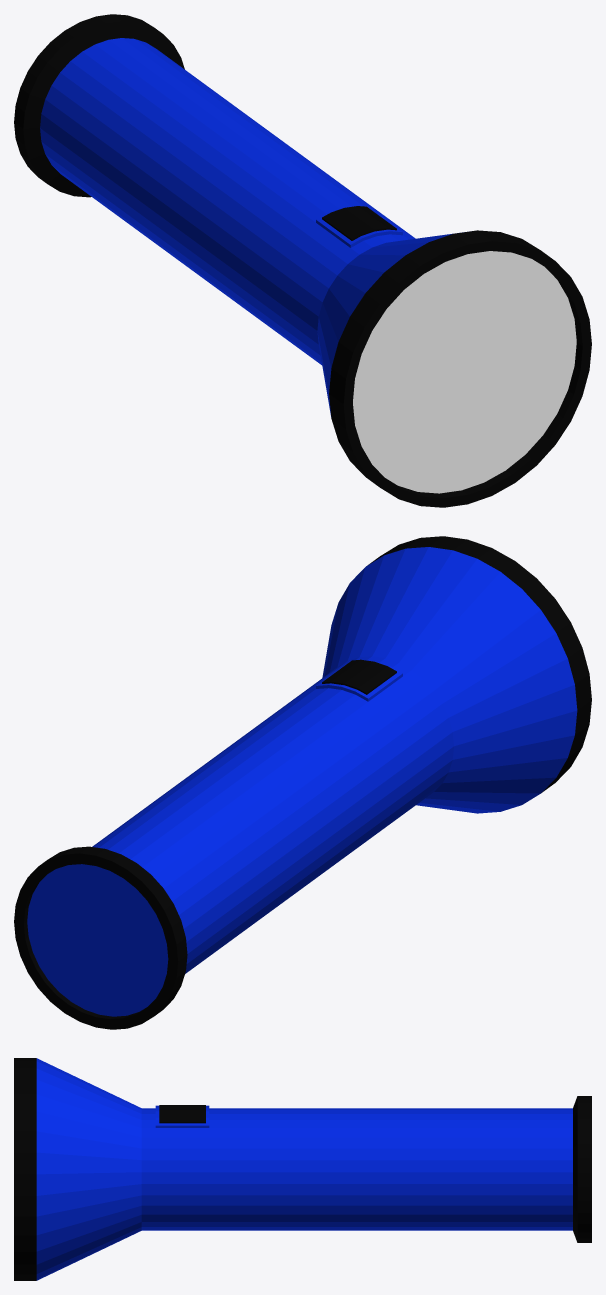
File: Flashlight.fbx
3 views of the same model, one above another, from view 1: azimuth 30°, elevation 25°; view 2: azimuth 150°, elevation 25°; view 3: azimuth 270°, elevation 25° (orthographic). The views are drawn at different scales.
Visible parts, largest first — view 1: Cylinder; view 2: Cylinder; view 3: Cylinder.
Part boxes in pixels (x1=…): Cylinder: x1=14, y1=14, x2=591, y2=507; Cylinder: x1=14, y1=536, x2=591, y2=1029; Cylinder: x1=14, y1=1058, x2=591, y2=1280.
Bounding box in the file's own units: 291 × 291 × 754.
